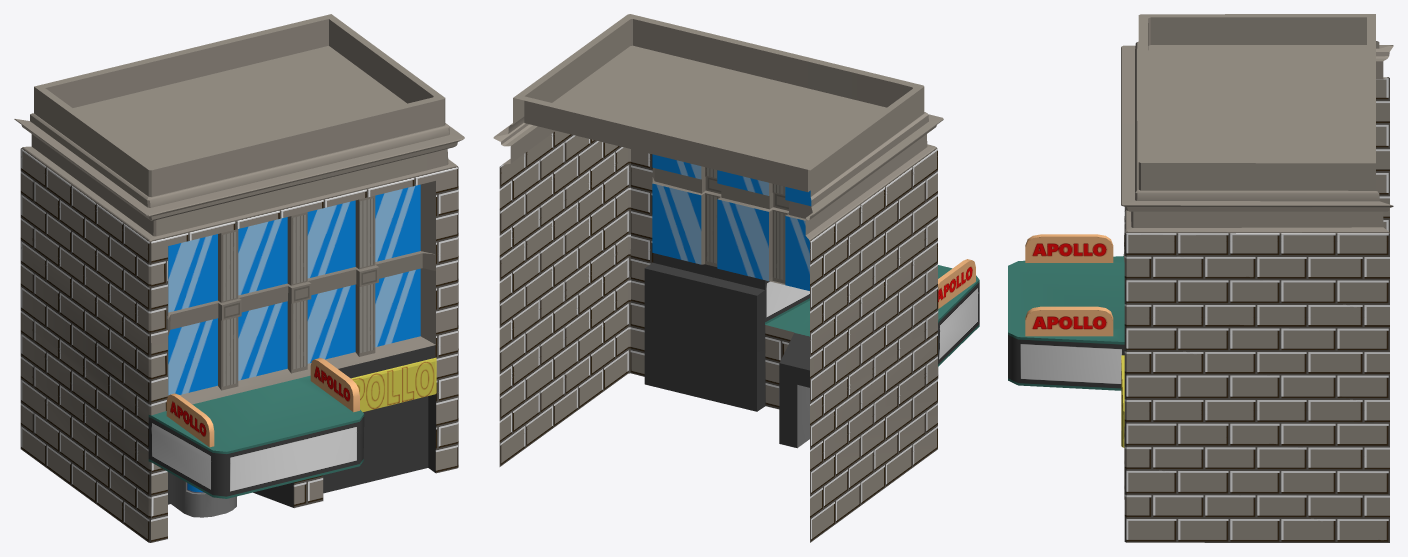
The model's file is ApolloTheather.fbx.
The picture shows the model from 3 angles, left to right: view 1: azimuth 30°, elevation 25°; view 2: azimuth 150°, elevation 25°; view 3: azimuth 270°, elevation 25°; orthographic projection. The views are drawn at different scales.
Visible parts, largest first — view 1: ApolloTheater; view 2: ApolloTheater; view 3: ApolloTheater.
Boxes of the visible parts, x1,y1,x2,y2 form: ApolloTheater: [14, 14, 464, 542]; ApolloTheater: [493, 14, 979, 542]; ApolloTheater: [1008, 14, 1393, 542].
Size of the model in its own units: 2060 by 2254 by 2093.
1 material, 1 textured.
